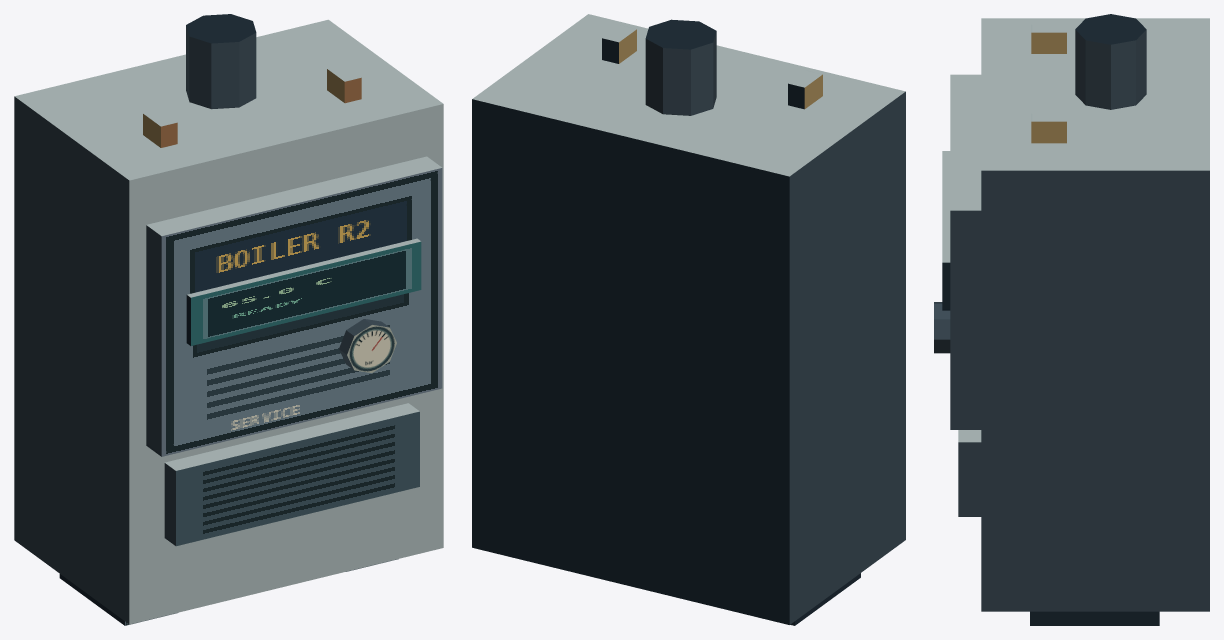
The model's file is caldera_residencial_mediana.glb.
The picture shows the model from 3 angles, left to right: view 1: azimuth 30°, elevation 25°; view 2: azimuth 150°, elevation 25°; view 3: azimuth 270°, elevation 25°; orthographic projection.
Visible parts, largest first — view 1: CALDERA_PROPS; view 2: CALDERA_PROPS; view 3: CALDERA_PROPS.
Part boxes in pixels (<box>): CALDERA_PROPS: <box>14,14,443,625</box>; CALDERA_PROPS: <box>472,14,905,625</box>; CALDERA_PROPS: <box>934,14,1209,625</box>.
Size of the model in its own units: 0.9312 by 1.51 by 0.7125.
1 material, 1 textured.
